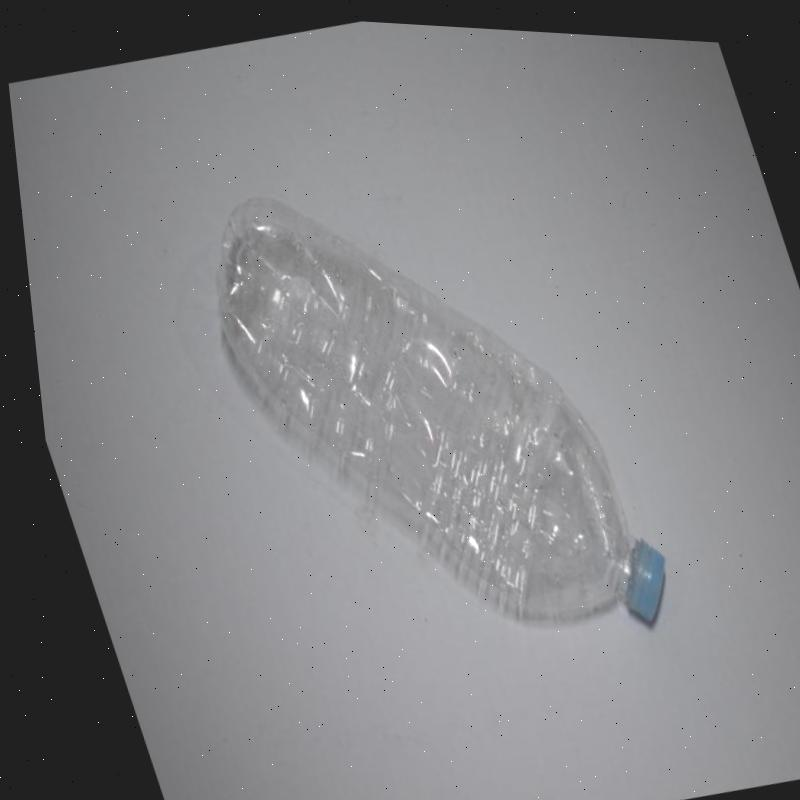botella: (167, 121, 679, 693)
